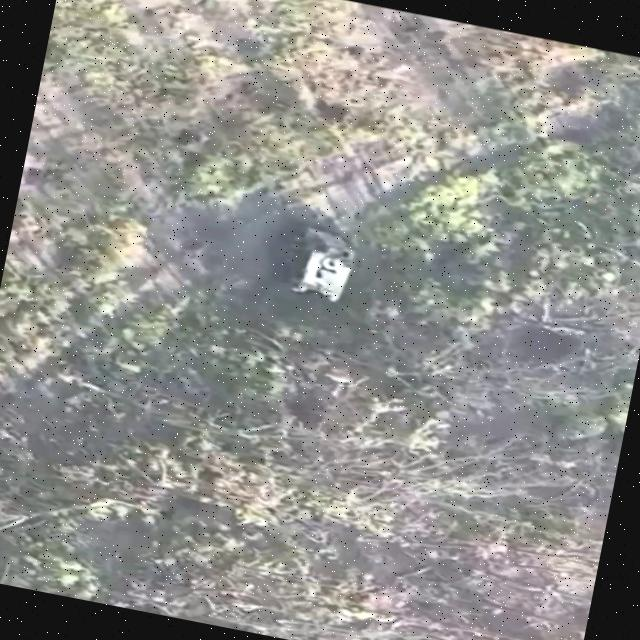APC: (275, 223, 363, 306)
